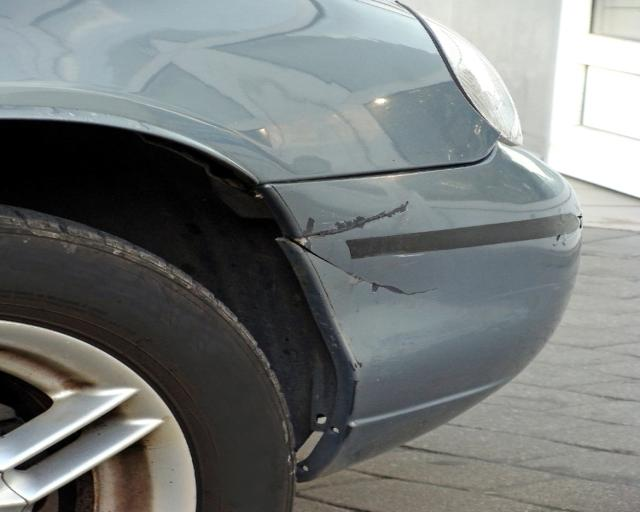crack: (288, 201, 441, 296)
